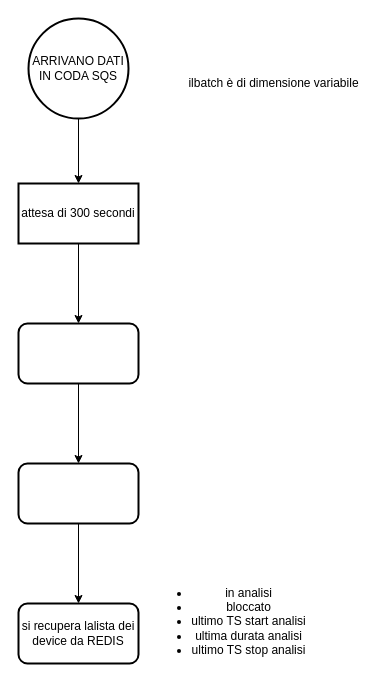
Some shapes in this 385 by 693 pixel diagram are drawn without their labels. The shapes that lost their labels are listed below. From the top down, each one's centre as x and y in pixels, then its label:
point (78, 353): partono le prime 4 o più lambda
point (78, 493): si recupera lalista dei device nel lotto in ingresso
